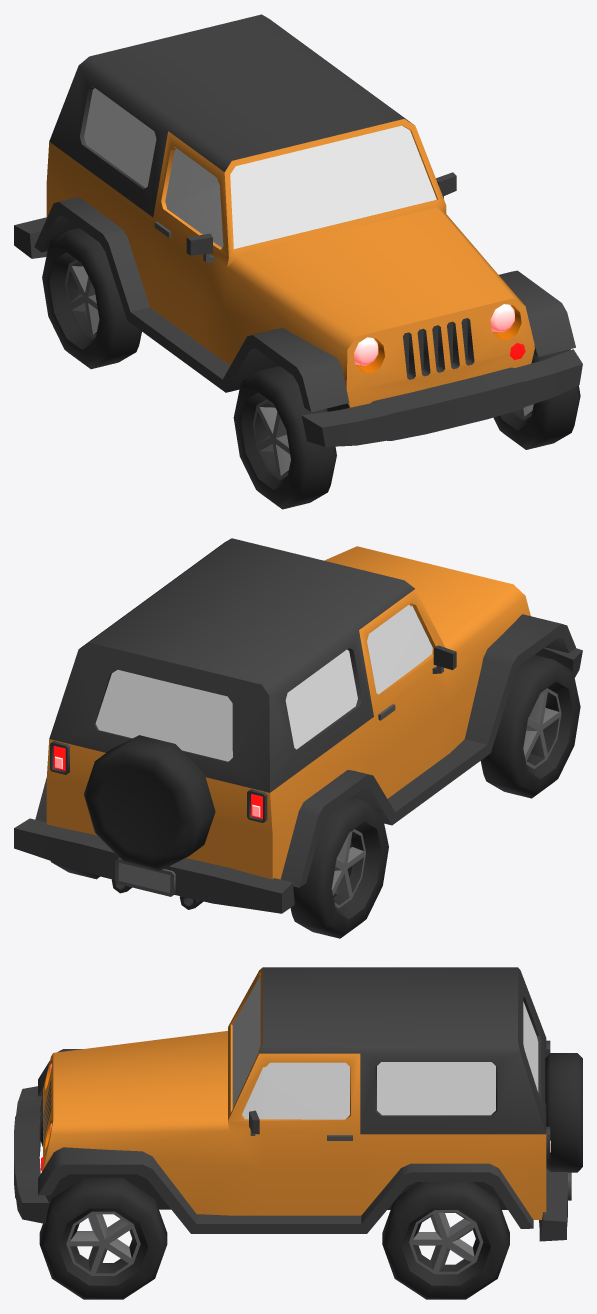
Rendered from car_cube055.glb.
3 views of the same model, one above another, from view 1: azimuth 30°, elevation 25°; view 2: azimuth 150°, elevation 25°; view 3: azimuth 270°, elevation 25° (orthographic). The views are drawn at different scales.
Parts seen in each view (by area): view 1: Cube.055, Cube.061, Cylinder.056, Cube.063, Cylinder.058, Cylinder.041, Cube.056, Cube.145; view 2: Cube.055, Cylinder.049, Cube.061, Cylinder.056, Cylinder.058, Cube.145, Cube.068, Cube.144, Cube.063, Cube.056; view 3: Cube.055, Cylinder.056, Cube.061, Cylinder.058, Cylinder.049, Cube.063, Cube.145.
Part boxes in pixels (bbox=[...]): Cube.055: bbox=[46, 14, 534, 411]; Cube.061: bbox=[34, 197, 575, 412]; Cylinder.056: bbox=[233, 349, 580, 509]; Cube.063: bbox=[301, 349, 582, 446]; Cylinder.058: bbox=[42, 228, 141, 369]; Cylinder.041: bbox=[354, 304, 514, 365]; Cube.056: bbox=[186, 172, 456, 262]; Cube.145: bbox=[14, 217, 47, 258]; Cube.055: bbox=[46, 538, 530, 879]; Cylinder.049: bbox=[84, 735, 215, 870]; Cube.061: bbox=[35, 614, 575, 887]; Cylinder.056: bbox=[480, 655, 580, 798]; Cylinder.058: bbox=[50, 797, 388, 938]; Cube.145: bbox=[14, 818, 294, 913]; Cube.068: bbox=[115, 858, 175, 896]; Cube.144: bbox=[50, 741, 267, 822]; Cube.063: bbox=[535, 647, 582, 677]; Cube.056: bbox=[432, 645, 456, 673]; Cube.055: bbox=[43, 967, 546, 1219]; Cylinder.056: bbox=[39, 1119, 167, 1299]; Cube.061: bbox=[38, 1049, 533, 1233]; Cylinder.058: bbox=[382, 1182, 509, 1299]; Cylinder.049: bbox=[545, 1053, 582, 1172]; Cube.063: bbox=[14, 1086, 48, 1223]; Cube.145: bbox=[539, 1168, 567, 1241].
Size of the model in its own units: 2.19 by 1.95 by 4.26.
Materials: 3 (3 with a texture image).
